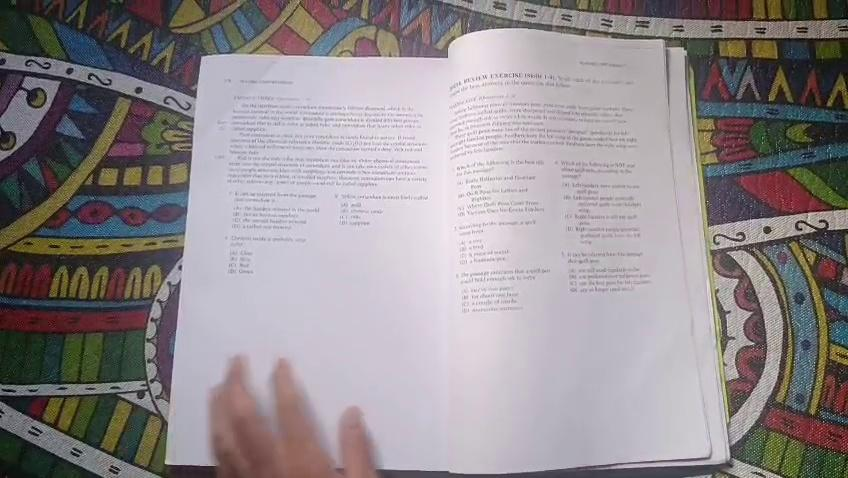Kertas: (445, 55, 673, 473), (199, 60, 456, 346)
